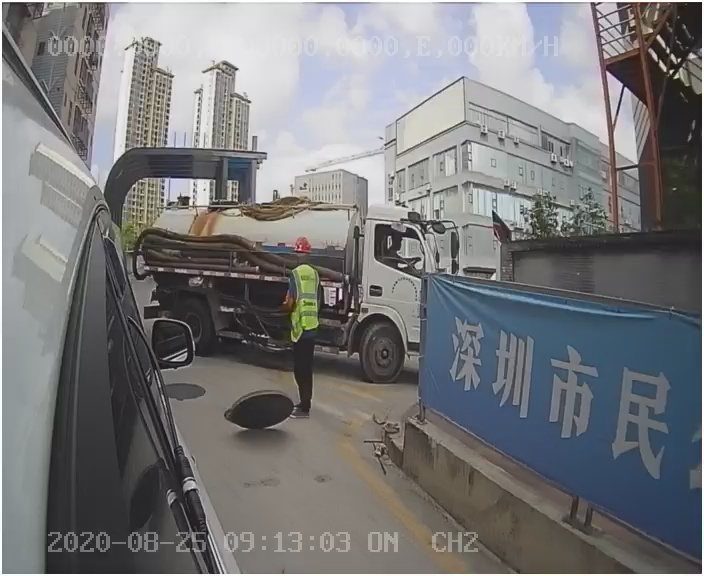person: (280, 235, 328, 427)
